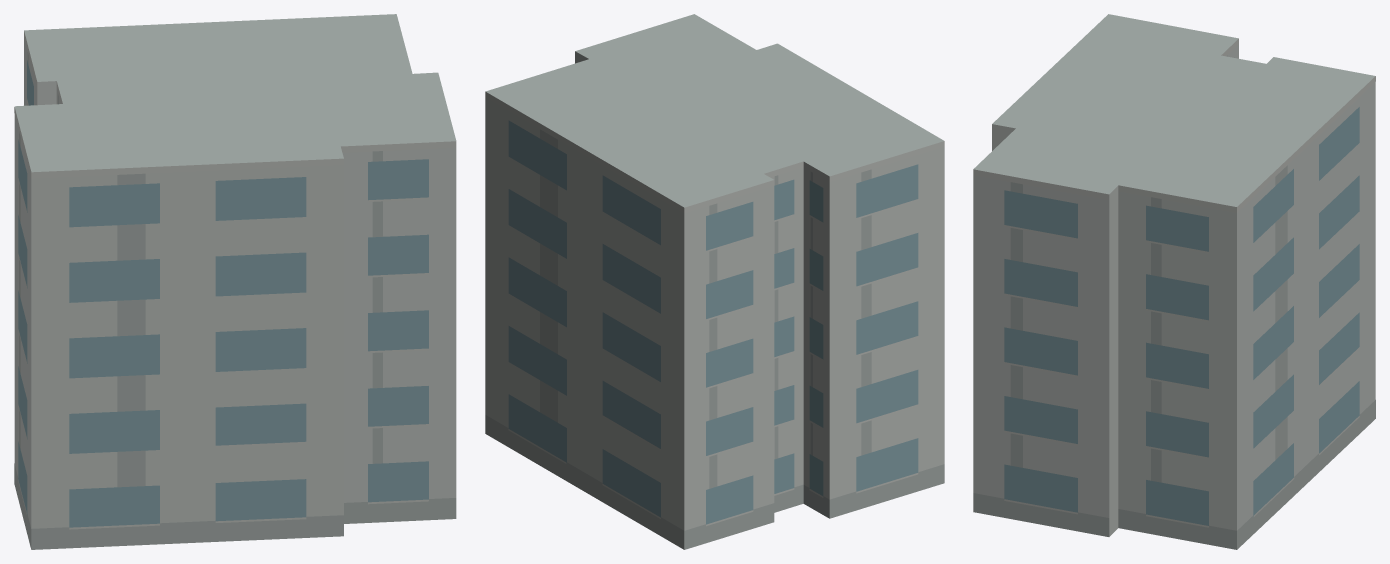
File: survey-upis-32983193.glb
The picture shows the model from 3 angles, left to right: view 1: azimuth 30°, elevation 25°; view 2: azimuth 150°, elevation 25°; view 3: azimuth 270°, elevation 25°; orthographic projection. The views are drawn at different scales.
Parts seen in each view (by area): view 1: survey-upis-32983193.tmp; view 2: survey-upis-32983193.tmp; view 3: survey-upis-32983193.tmp.
Part boxes in pixels (box(x1,y1,x2,y2)): survey-upis-32983193.tmp: box(14, 14, 456, 549); survey-upis-32983193.tmp: box(485, 14, 944, 549); survey-upis-32983193.tmp: box(973, 14, 1375, 549).
Size of the model in its own units: 17.29 by 14.3 by 15.23.
